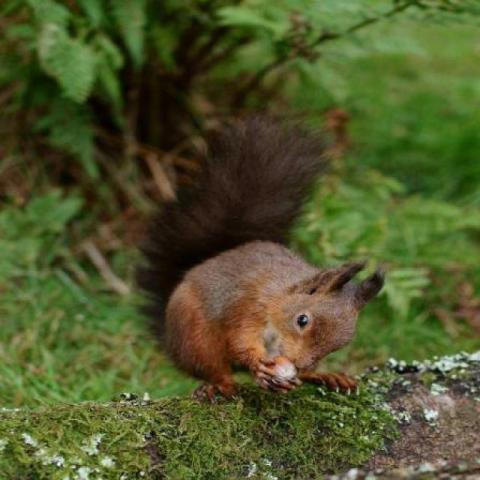small_animal: (144, 123, 389, 405)
